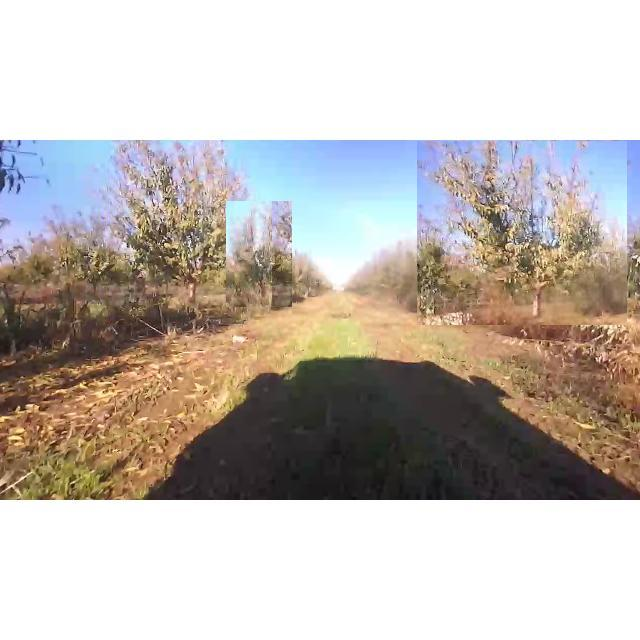direk: (417, 141, 627, 325), (106, 142, 246, 324), (226, 201, 292, 307), (73, 228, 114, 300)
